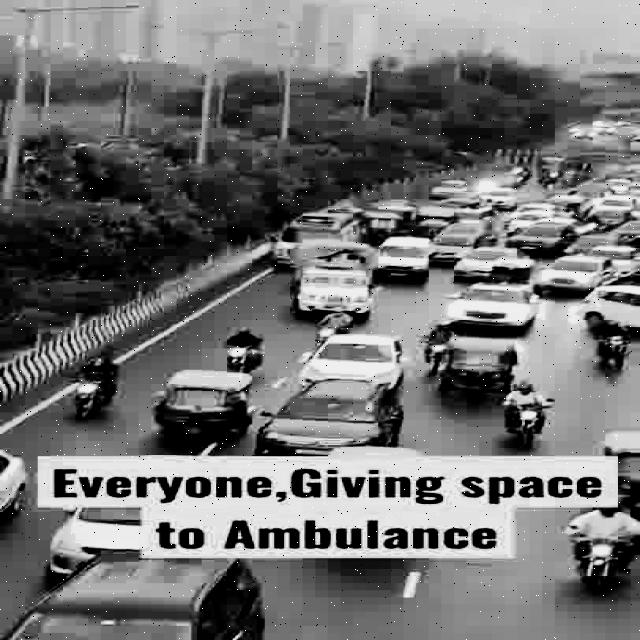Ambulance: (277, 210, 363, 242)
